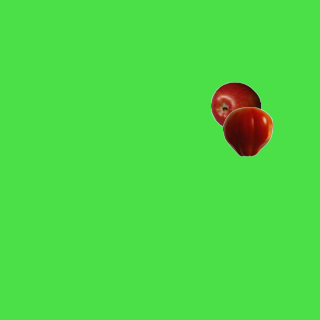Apple Braeburn: (210, 81, 260, 131)
Tomato 1: (222, 106, 272, 156)
